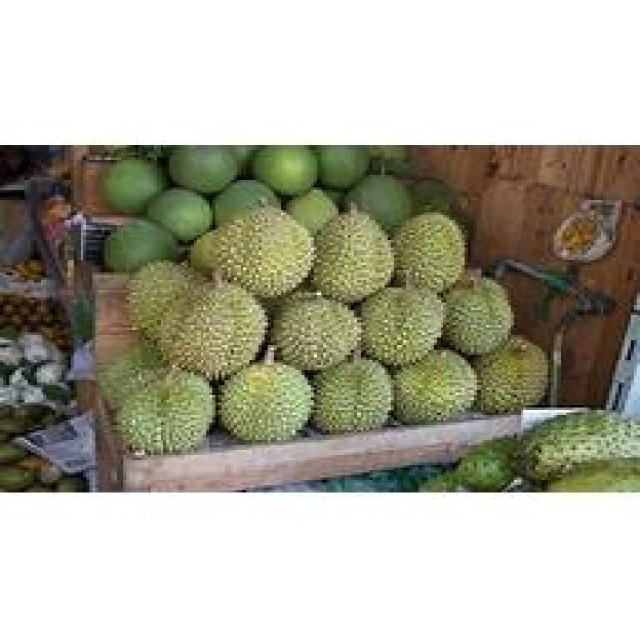fruit: (101, 240, 277, 405), (200, 192, 320, 310), (348, 270, 452, 385), (209, 350, 320, 455), (299, 203, 403, 315), (262, 280, 366, 385), (458, 328, 557, 430), (428, 265, 523, 370), (385, 337, 486, 435), (298, 348, 400, 442)
